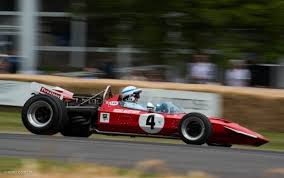f1_car: (18, 78, 273, 161)
